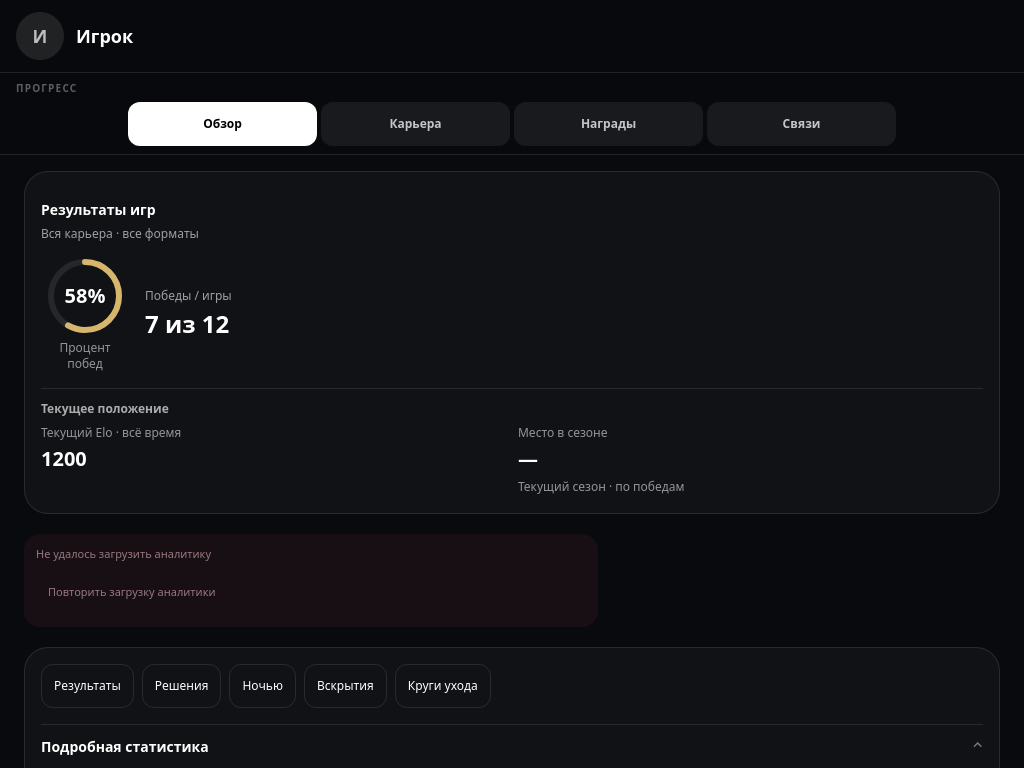
Test: CanonicalPremiumPlayerProfile › shows the games with Russian labels, the title, the Elo change and a link to the game
The image size is (1024, 768).
Expected: the heading "Игрок" is shown, [76, 24, 133, 48]
Click the button "Карьера": (416, 124) [321, 102, 510, 146]
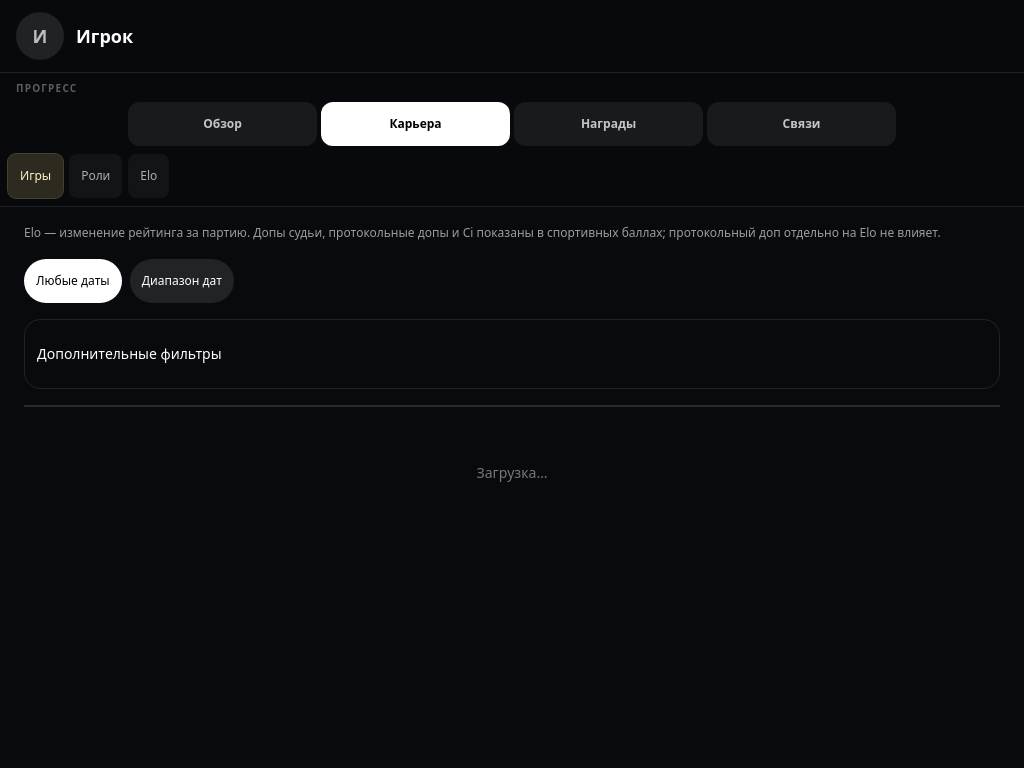
Click the button "Игры": (36, 176) [8, 154, 63, 198]
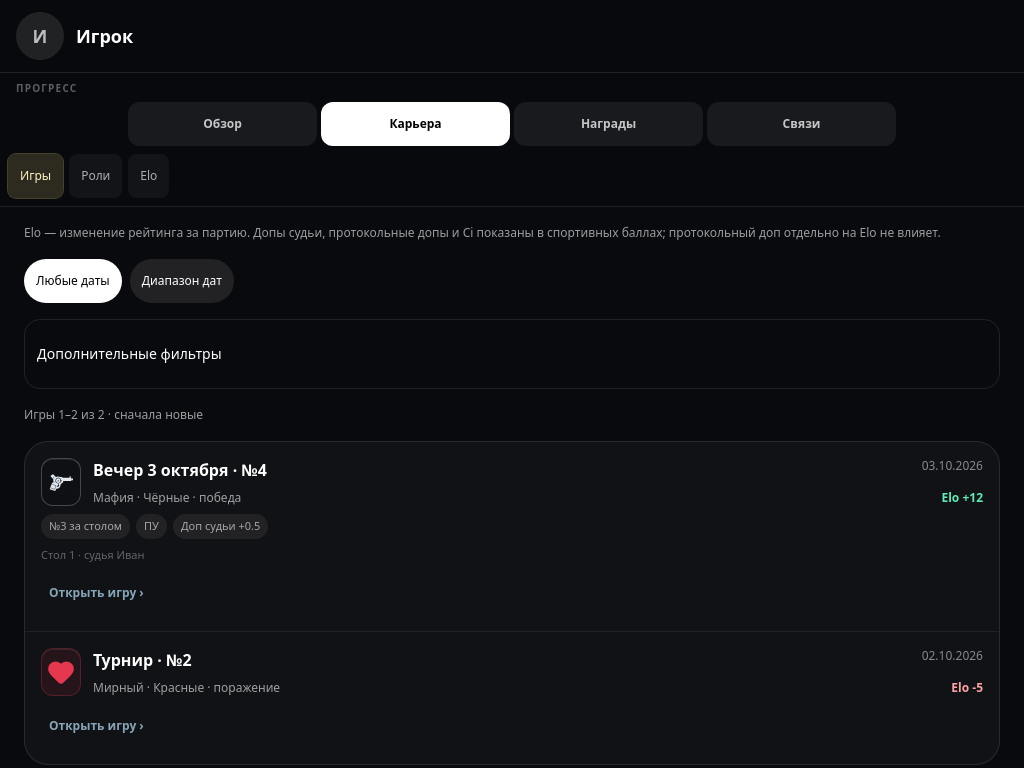
Result: the text "Вечер 3 октября · №4" is shown at [93, 458, 267, 482]
Result: the text "Мафия · Чёрные · победа" is shown at [93, 490, 241, 506]
Result: the text "Elo +12" is shown at [942, 490, 983, 506]
